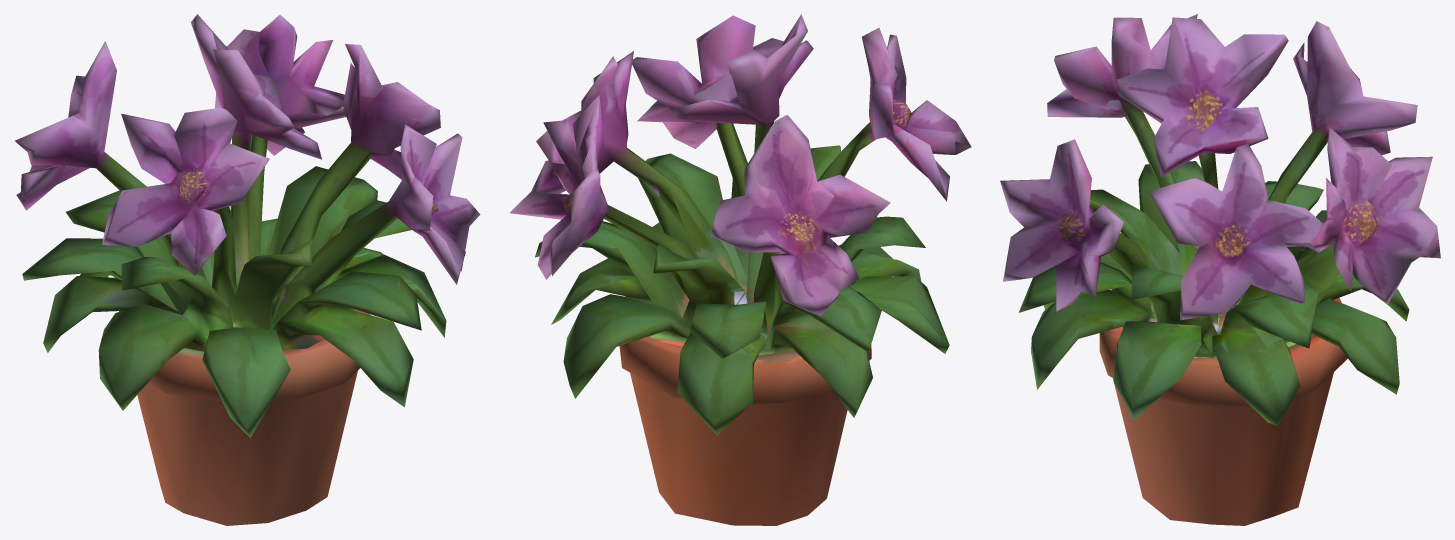
The model's file is potPurpleFlowers.fbx.
3 views of the same model, side by side, from view 1: azimuth 30°, elevation 25°; view 2: azimuth 150°, elevation 25°; view 3: azimuth 270°, elevation 25° (orthographic).
Parts seen in each view (by area): view 1: PotPurpleFlowers; view 2: PotPurpleFlowers; view 3: PotPurpleFlowers.
Part boxes in pixels (x1=…): PotPurpleFlowers: x1=15, y1=14, x2=480, y2=525; PotPurpleFlowers: x1=509, y1=14, x2=971, y2=525; PotPurpleFlowers: x1=1000, y1=14, x2=1440, y2=525.
Size of the model in its own units: 41.46 by 50 by 43.41.
